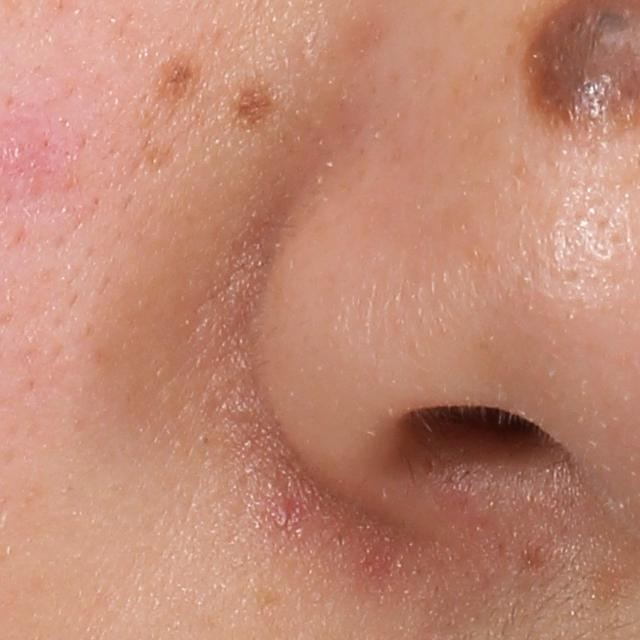nevus: (146, 52, 205, 109), (228, 84, 280, 129)
